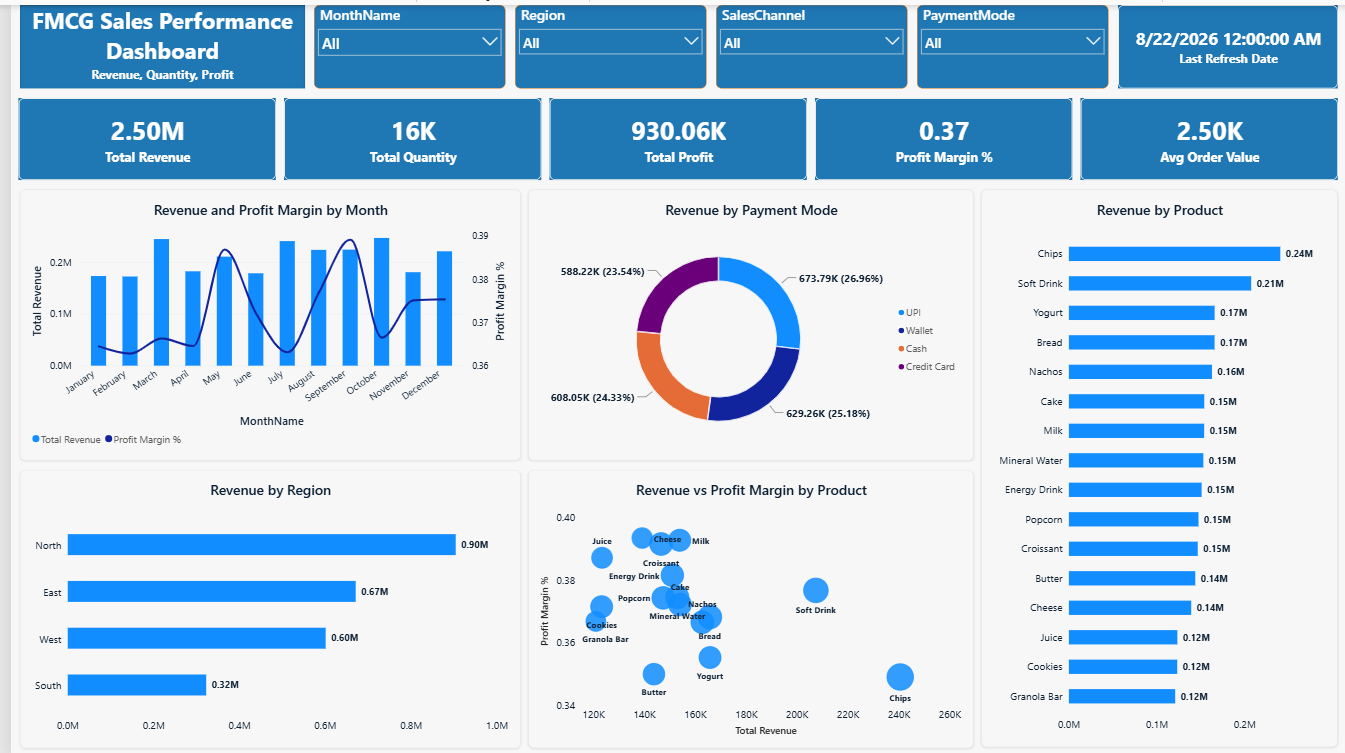

The dashboard page shown, as its layout file describes it:
{"tool":"powerbi","page":{"name":"Sales Overview","canvas":[1920,1080],"ordinal":0},"visuals":[{"type":"textbox","title":"FMCG Sales Performance Dashboard","box":[12,0,410,120],"z":0},{"type":"slicer","fields":{"Values":["Dim_Date.MonthName"]},"box":[436,0,275,120],"z":1000},{"type":"slicer","fields":{"Values":["Dim_Customer.Region"]},"box":[725,0,275,120],"z":2000},{"type":"slicer","fields":{"Values":["Dim_Channel.SalesChannel"]},"box":[1014,0,275,120],"z":3000},{"type":"slicer","fields":{"Values":["Dim_Payment.PaymentMode"]},"box":[1303,0,275,120],"z":4000},{"type":"cardVisual","fields":{"Data":["Dax_calculation.Last Refresh Date"]},"box":[1592,0,316,120],"z":5000},{"type":"cardVisual","fields":{"Data":["Dax_calculation.Total Revenue"]},"box":[10,134,370,118],"z":6000},{"type":"cardVisual","fields":{"Data":["Dax_calculation.Total Quantity"]},"box":[392,134,370,118],"z":7000},{"type":"cardVisual","fields":{"Data":["Dax_calculation.Total Profit"]},"box":[774,134,370,118],"z":8000},{"type":"cardVisual","fields":{"Data":["Dax_calculation.Profit Margin %"]},"box":[1156,134,370,118],"z":9000},{"type":"cardVisual","fields":{"Data":["Dax_calculation.Avg Order Value"]},"box":[1538,134,370,118],"z":10000},{"type":"lineClusteredColumnComboChart","title":"Revenue and Profit Margin by Month","fields":{"Category":["Dim_Date.MonthName"],"Y":["Dax_calculation.Total Revenue"],"Y2":["Dax_calculation.Profit Margin %"]},"box":[12,266,720,390],"z":11000},{"type":"donutChart","title":"Revenue by Payment Mode","fields":{"Category":["Dim_Payment.PaymentMode"],"Y":["Dax_calculation.Total Revenue"]},"box":[744,266,640,390],"z":12000},{"type":"barChart","title":"Revenue by Product","fields":{"Category":["Dim_Product.ProductName"],"Y":["Dax_calculation.Total Revenue"]},"box":[1396,266,512,802],"z":13000},{"type":"scatterChart","title":"Revenue vs Profit Margin by Product","fields":{"Category":["Dim_Product.ProductName"],"Size":["Dax_calculation.Total Quantity"],"X":["Dax_calculation.Total Revenue"],"Y":["Dax_calculation.Profit Margin %"]},"box":[744,668,640,400],"z":14000},{"type":"barChart","title":"Revenue by Region","fields":{"Category":["Dim_Customer.Region"],"Y":["Dax_calculation.Total Revenue"]},"box":[12,668,720,400],"z":15000}]}

Visuals, with their boxes in screenshot pixels (x1, y1, x2, y2), scaled from the page's 1920x1080 canvas onto the 1345x753 screenshot:
"FMCG Sales Performance Dashboard" textbox: detection(8, 0, 296, 84)
slicer - Dim_Date.MonthName: detection(305, 0, 498, 84)
slicer - Dim_Customer.Region: detection(508, 0, 701, 84)
slicer - Dim_Channel.SalesChannel: detection(710, 0, 903, 84)
slicer - Dim_Payment.PaymentMode: detection(913, 0, 1105, 84)
cardVisual - Dax_calculation.Last Refresh Date: detection(1115, 0, 1337, 84)
cardVisual - Dax_calculation.Total Revenue: detection(7, 93, 266, 176)
cardVisual - Dax_calculation.Total Quantity: detection(275, 93, 534, 176)
cardVisual - Dax_calculation.Total Profit: detection(542, 93, 801, 176)
cardVisual - Dax_calculation.Profit Margin %: detection(810, 93, 1069, 176)
cardVisual - Dax_calculation.Avg Order Value: detection(1077, 93, 1337, 176)
"Revenue and Profit Margin by Month" lineClusteredColumnComboChart: detection(8, 185, 513, 457)
"Revenue by Payment Mode" donutChart: detection(521, 185, 970, 457)
"Revenue by Product" barChart: detection(978, 185, 1337, 745)
"Revenue vs Profit Margin by Product" scatterChart: detection(521, 466, 970, 745)
"Revenue by Region" barChart: detection(8, 466, 513, 745)
